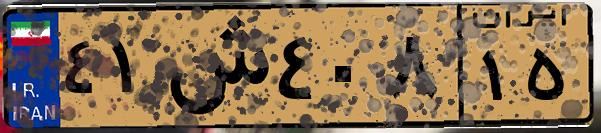0: (330, 28, 385, 110)
1: (475, 38, 525, 113), (110, 28, 158, 98)
4: (270, 28, 330, 110), (57, 26, 110, 100)
5: (525, 38, 570, 115)
8: (385, 28, 445, 110)
ش: (158, 12, 270, 120)
